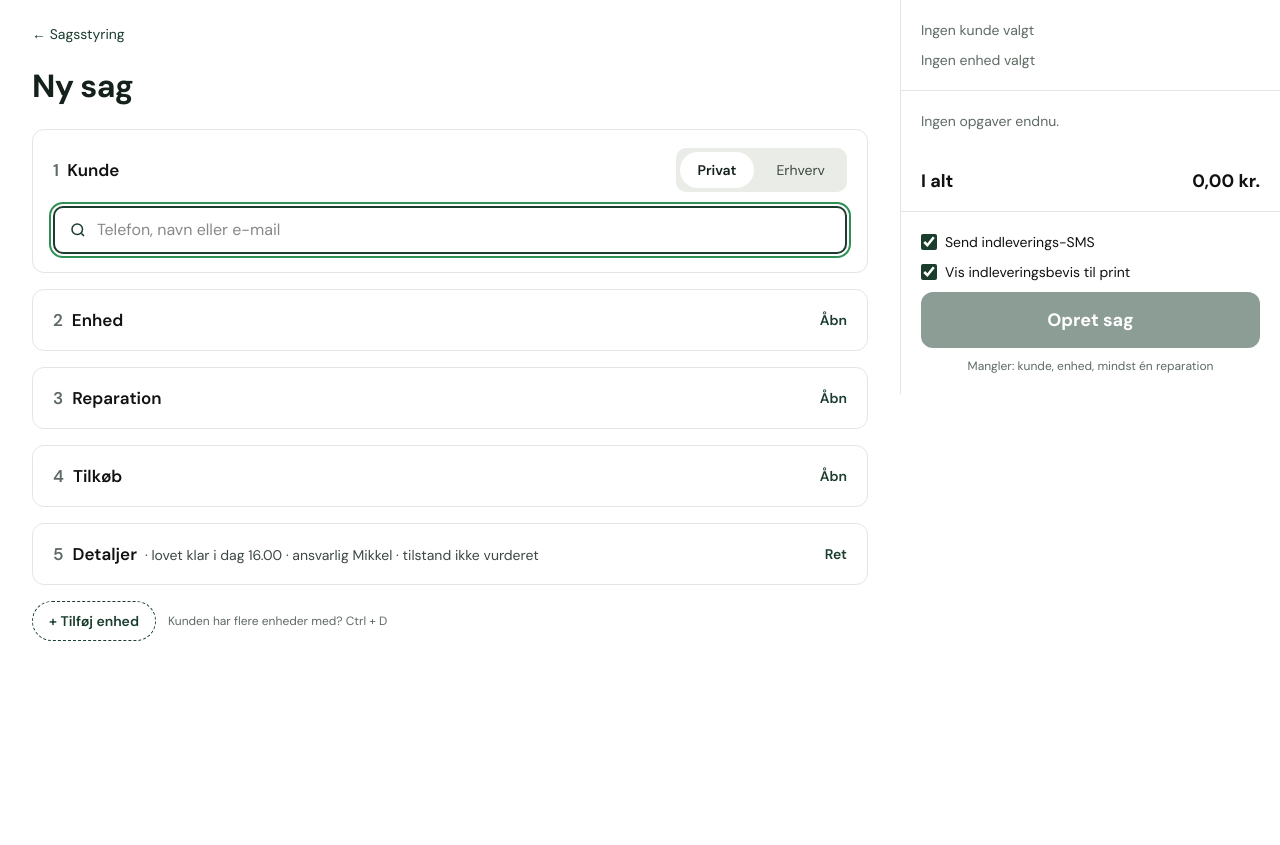
Scenario: Ny sag: sektionsflow › Erhverv shows company fields and the CVR button
Step 1. Click the button "Erhverv" → (801, 170), box left=758, top=152, right=843, bottom=188
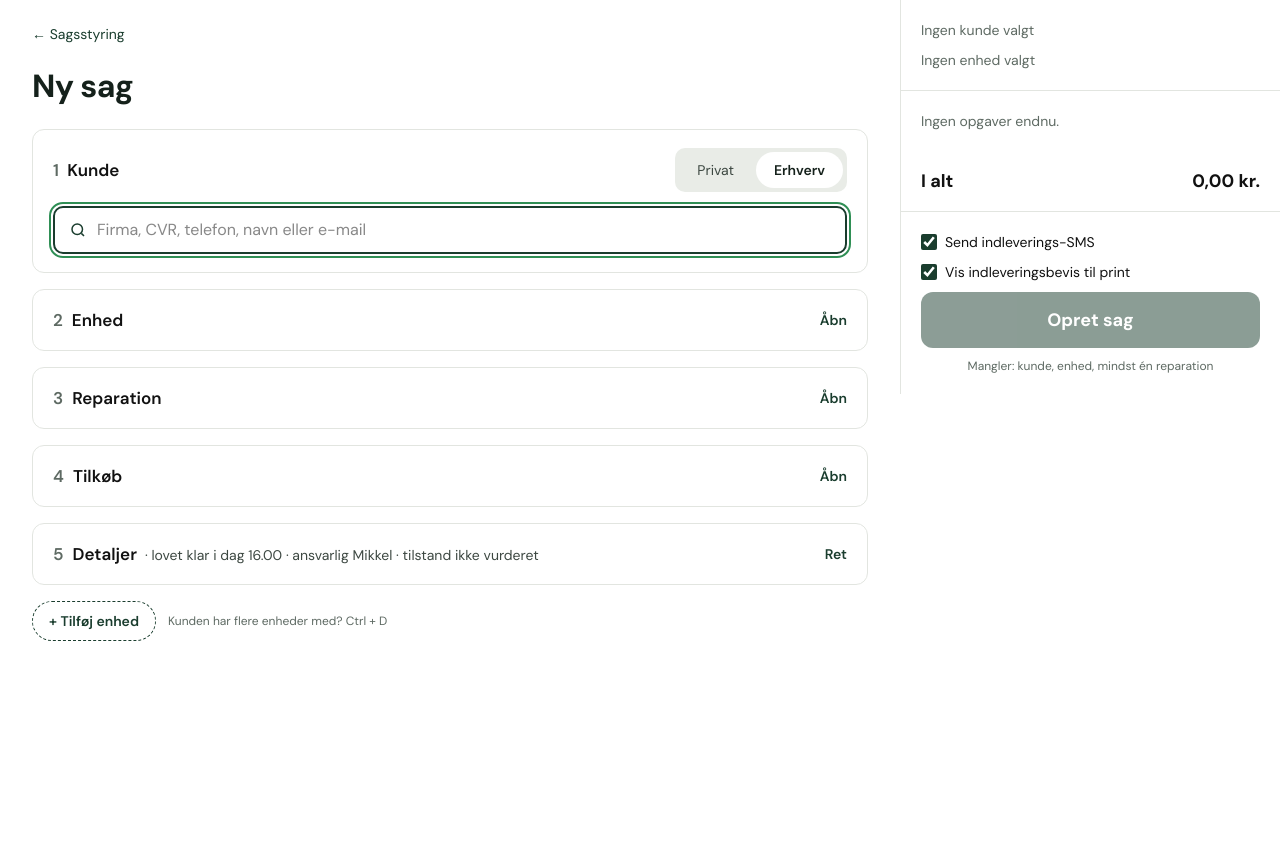
Step 2. Type "Firma" into the field named "Søg kunde" → (464, 230), box left=97, top=218, right=831, bottom=242
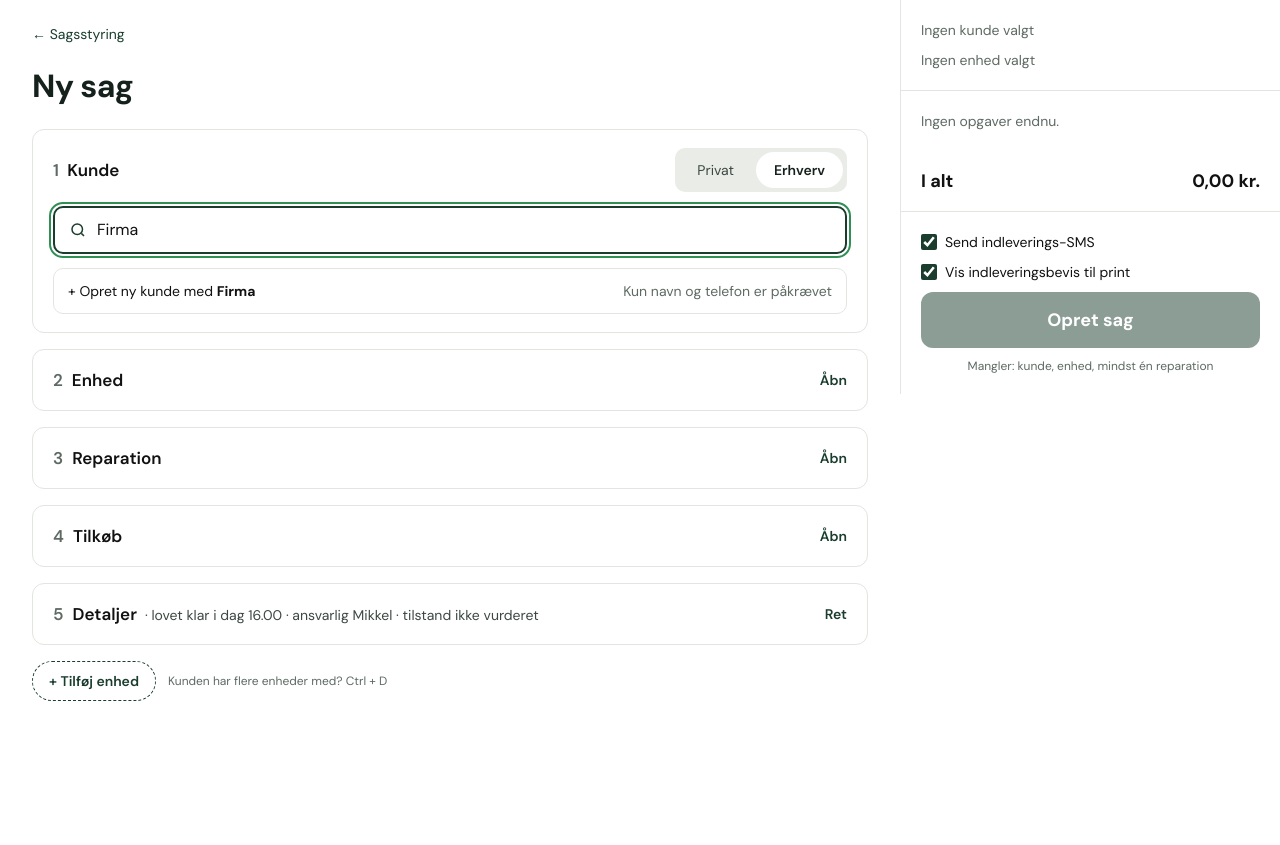
Step 3. Click the button "+ Opret ny kunde med Firma Kun navn og telefon er påkrævet" → (142, 291), box left=54, top=269, right=846, bottom=313
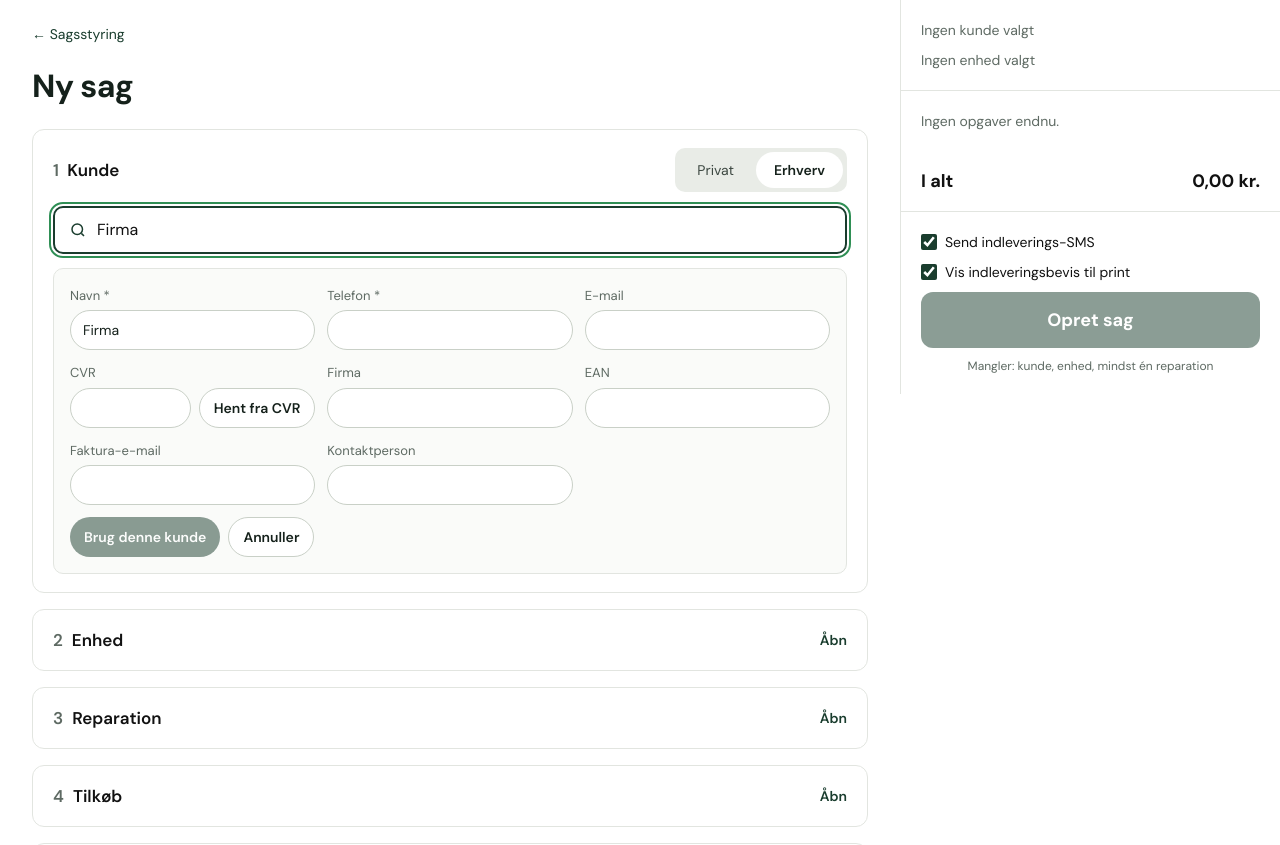
Expected: the field labelled "CVR" is shown, left=70, top=388, right=191, bottom=428
Expected: the field labelled "Firma" is shown, left=327, top=388, right=573, bottom=428
Expected: the field labelled "EAN" is shown, left=585, top=388, right=830, bottom=428
